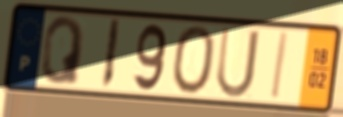9: (132, 21, 169, 93)
I: (99, 16, 123, 91), (268, 30, 292, 103)
O: (169, 23, 217, 97)
Q: (39, 15, 87, 88)
U: (214, 24, 262, 100)
